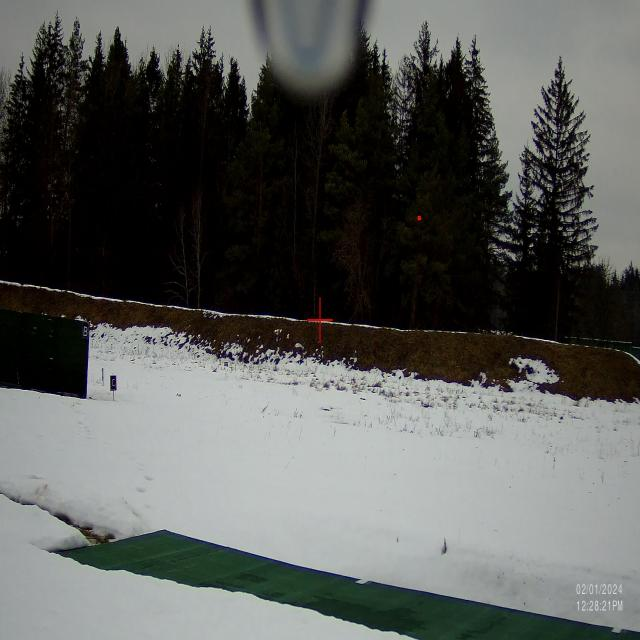entire: (413, 205, 426, 228)
